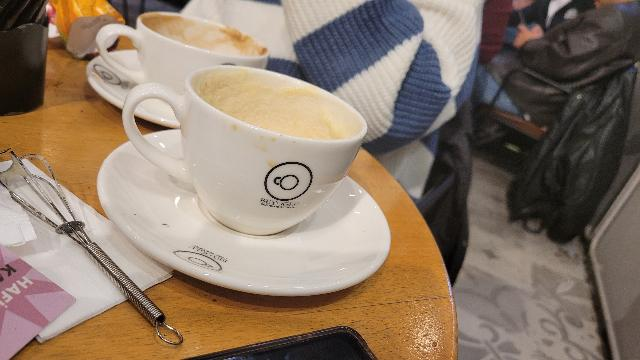Kagit: (1, 140, 172, 360)
